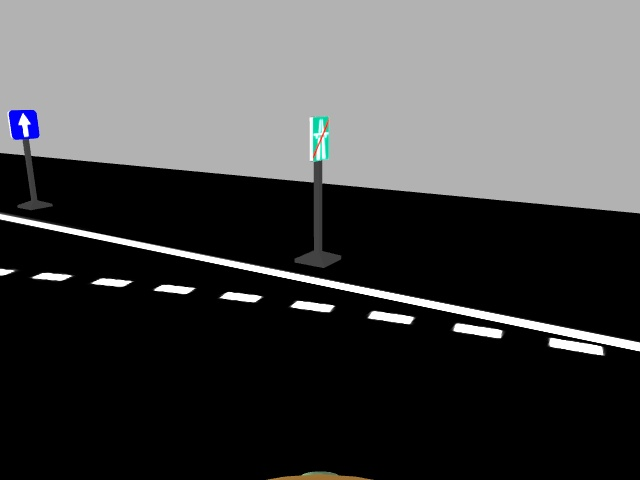HighwayExit: (307, 115, 330, 162)
OneWay: (5, 109, 40, 139)
